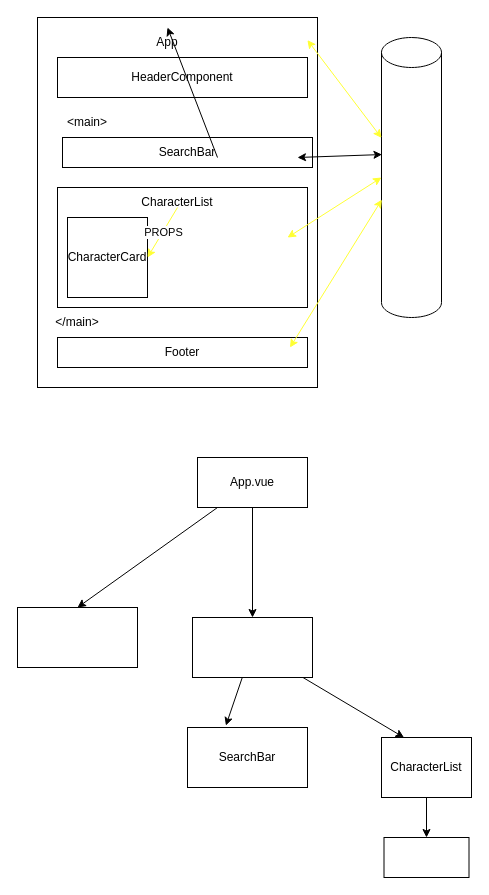
Some shapes in this 489 by 895 pixel diagram are drawn without their labels. The shapes that lost their labels are listed below. From the top down, each one's box as (x1, y1, x2, y2) in pixels, then its label:
(380, 36, 442, 318): STORE
(16, 606, 138, 668): Header
(192, 616, 312, 678): Main
(383, 836, 469, 878): Card
